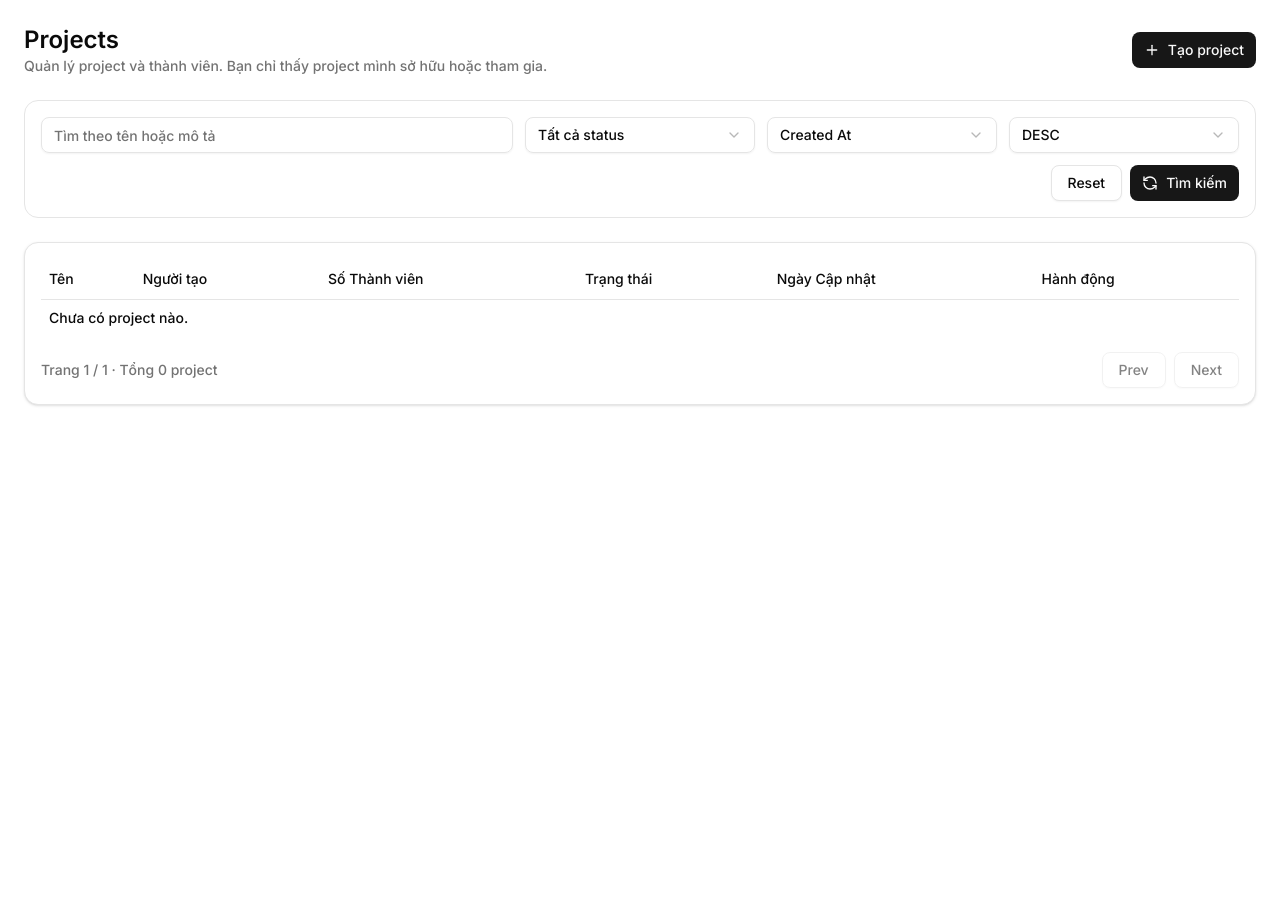
Scenario: <ProjectsPage /> › opens the create dialog for a manager
Expected: the text "Chưa có project nào." is shown, [41,299,1239,336]
Click the button "Tạo project".
click(1194, 50)  # box [1132,32,1256,68]
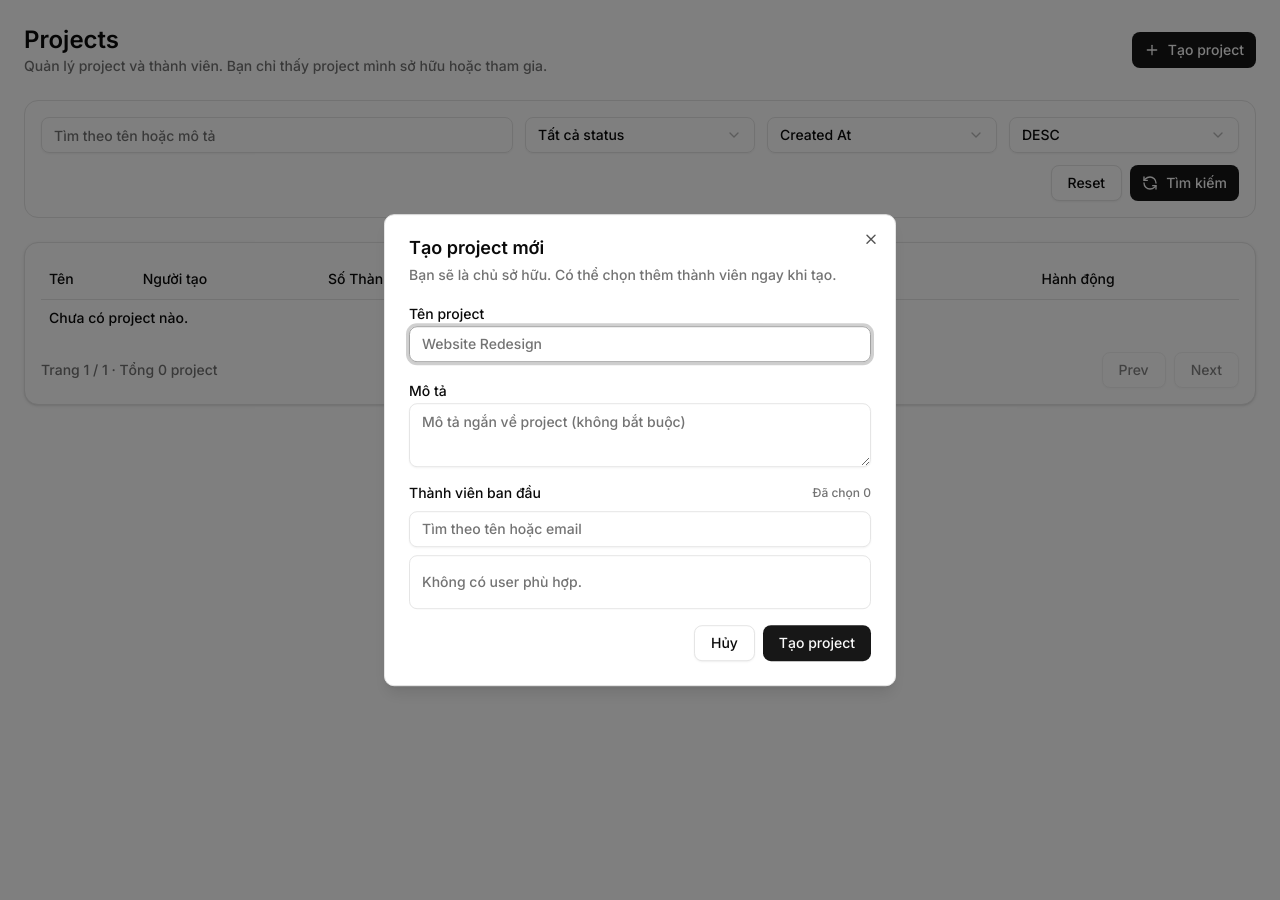
Now the heading "Tạo project mới" is shown, box [409,237,544,258]
